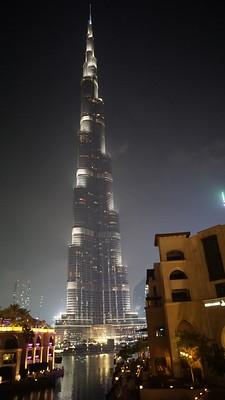building: (57, 22, 142, 345)
